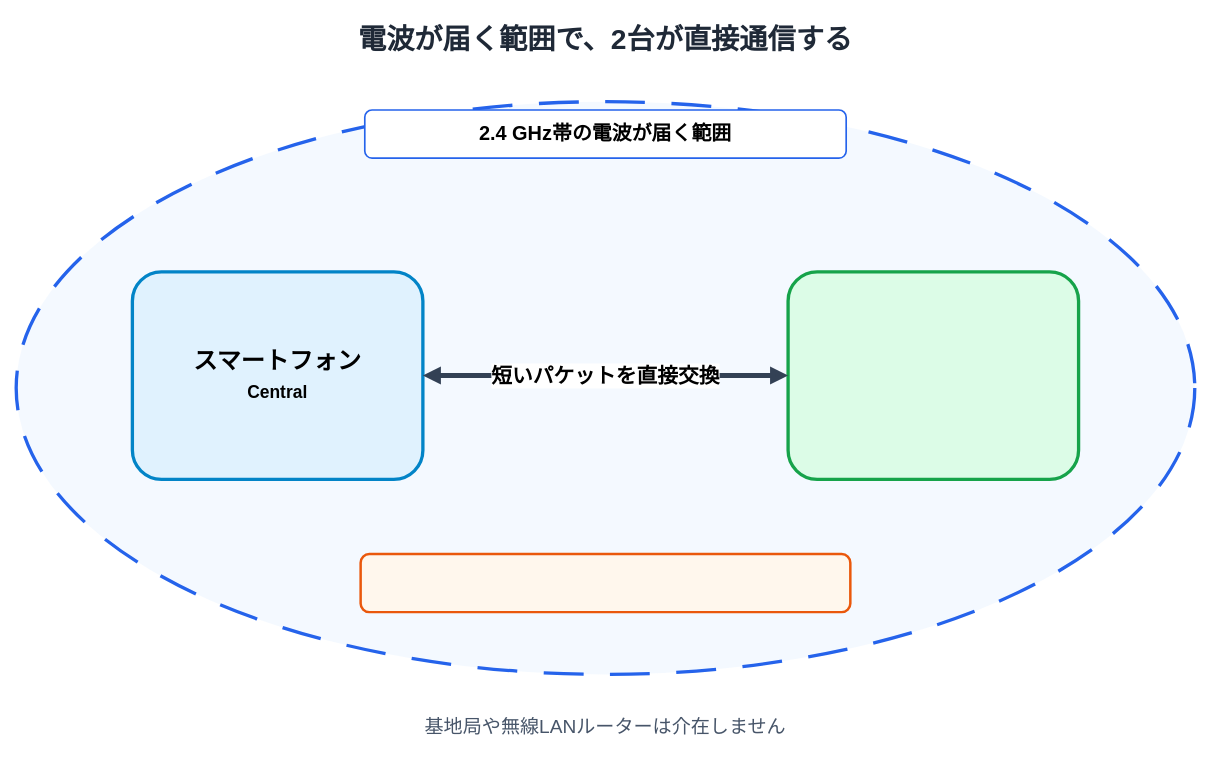
The diagram is 1210 pixels wide and 763 high, and some of its shapes have lost their labels. Here are the shapes that lost their labels. From the top down, the centre of each, then its label:
At point 933,375: "周辺機器 Peripheral".
At point 605,582: "LEピコネット物理チャネル".
